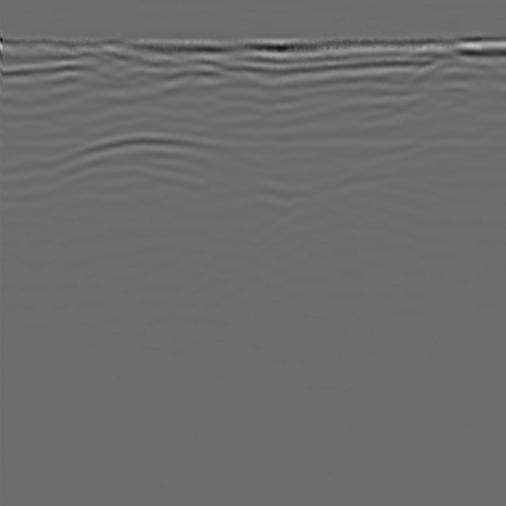hyperbola: (23, 116, 283, 240)
